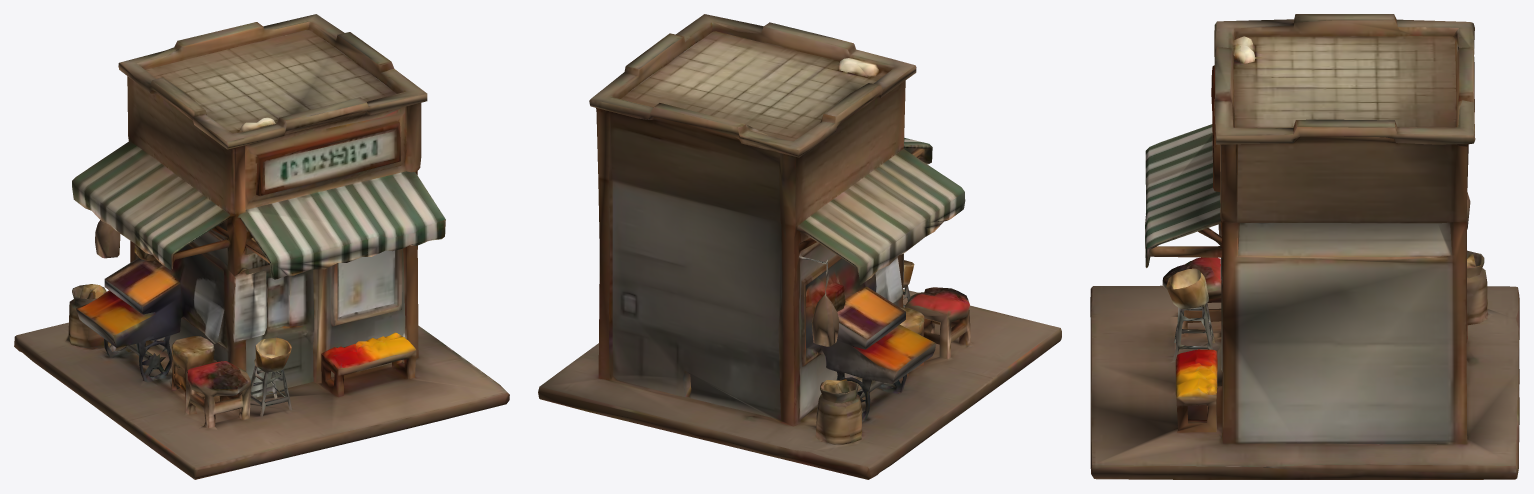
The model's file is grocery.glb.
3 views of the same model, side by side, from view 1: azimuth 30°, elevation 25°; view 2: azimuth 150°, elevation 25°; view 3: azimuth 270°, elevation 25° (orthographic). The views are drawn at different scales.
Size of the model in its own units: 1 by 0.8656 by 1.
Materials: 1 (1 with a texture image).
